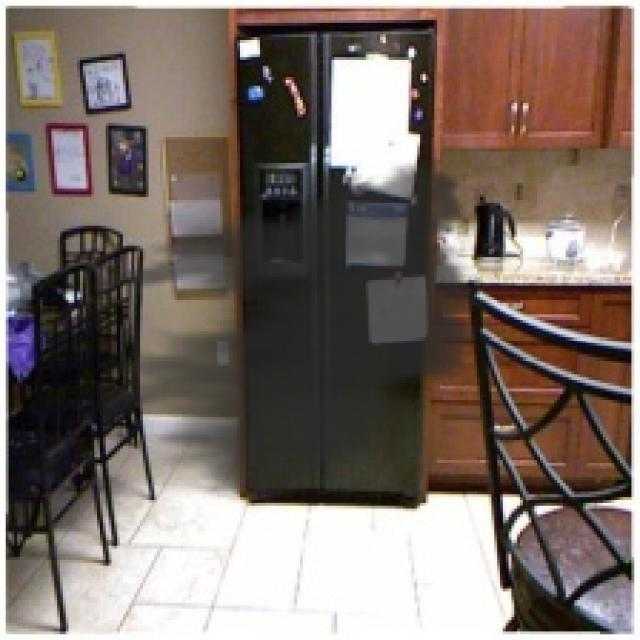Smoke: (97, 146, 500, 514)
